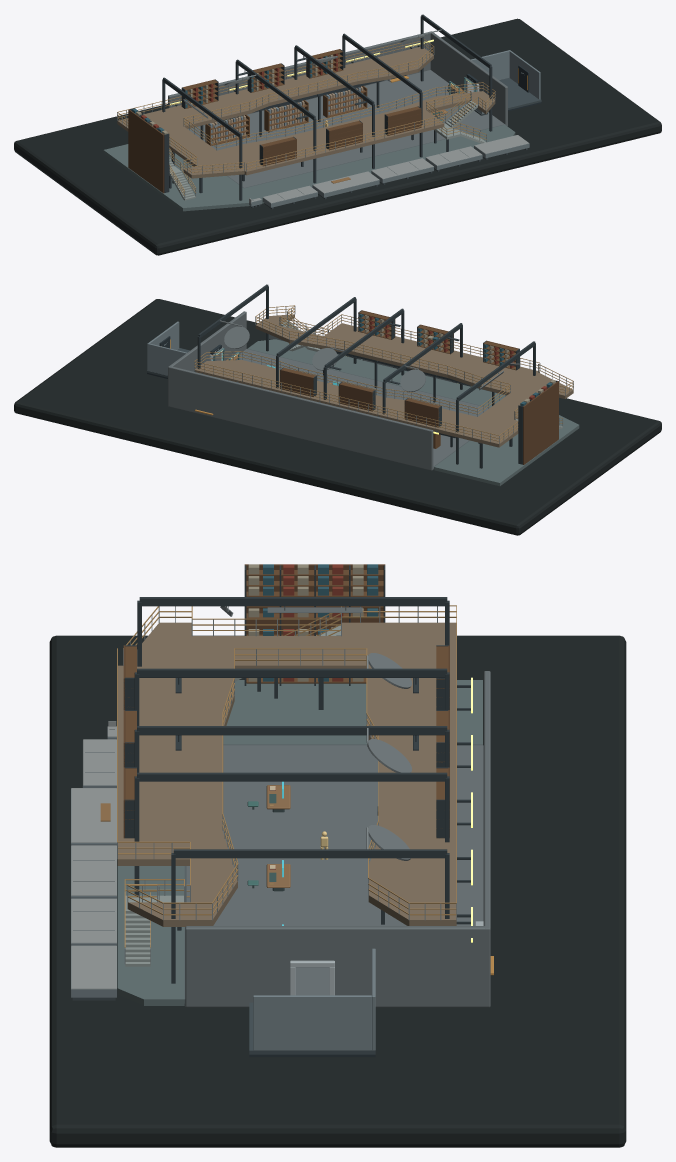
Rendered from flagship-p30-archive.glb.
3 views of the same model, one above another, from view 1: azimuth 30°, elevation 25°; view 2: azimuth 150°, elevation 25°; view 3: azimuth 270°, elevation 25° (orthographic). The views are drawn at different scales.
Visible parts, largest first — view 1: Archive bay structural deck, Archive occupied deck 36 x 18 metres, ARCH18A_upper_north_gallery, ARCH18A_upper_south_gallery, ARCH18A_lower_south_deck, ARCH18A_lower_west_deck, ARCH18A_upper_west_connector, Archive end bulkhead, ARCH18A_west_archive_wall_back, Archive inboard wall, ARCH16 / reserved end bulkhead, ARCH18A_south_upper_rack_2_back (+15 smaller); view 2: Archive bay structural deck, Archive inboard wall, ARCH18A_upper_south_gallery, Archive occupied deck 36 x 18 metres, ARCH18A_upper_north_gallery, ARCH18A_lower_west_deck, ARCH18A_lower_south_deck, ARCH18A_upper_west_connector, ARCH18A_west_archive_wall_back, Archive end bulkhead, ARCH16 / inboard side wall, ARCH18A_north_upper_rack_0_back (+11 smaller); view 3: Archive bay structural deck, Archive occupied deck 36 x 18 metres, Archive end bulkhead, ARCH18A_upper_south_gallery, ARCH18A_upper_north_gallery, ARCH18A_upper_west_connector, ARCH18A_lower_west_deck, ARCH16 / reserved end bulkhead, ARCH18A_lower_south_deck, ARCH18A_high_rib_01, ARCH18A_high_rib_03, ARCH18A_high_rib_02 (+12 smaller).
Boxes of the visible parts, box(x1,y1,x2,y2) form: Archive bay structural deck: box(14, 18, 661, 255); Archive occupied deck 36 x 18 metres: box(188, 70, 507, 187); ARCH18A_upper_north_gallery: box(164, 47, 433, 128); ARCH18A_upper_south_gallery: box(217, 91, 495, 175); ARCH18A_lower_south_deck: box(244, 125, 515, 203); ARCH18A_lower_west_deck: box(103, 144, 256, 211); ARCH18A_upper_west_connector: box(117, 110, 244, 178); Archive end bulkhead: box(430, 31, 507, 124); ARCH18A_west_archive_wall_back: box(128, 109, 164, 193); Archive inboard wall: box(168, 31, 431, 128); ARCH16 / reserved end bulkhead: box(509, 50, 540, 99); ARCH18A_south_upper_rack_2_back: box(387, 108, 421, 135); Archive bay structural deck: box(14, 299, 661, 535); Archive inboard wall: box(168, 366, 433, 468); ARCH18A_upper_south_gallery: box(255, 314, 539, 395); Archive occupied deck 36 x 18 metres: box(168, 349, 489, 470); ARCH18A_upper_north_gallery: box(194, 360, 476, 436); ARCH18A_lower_west_deck: box(434, 415, 579, 486); ARCH18A_lower_south_deck: box(248, 339, 506, 407); ARCH18A_upper_west_connector: box(455, 372, 573, 447); ARCH18A_west_archive_wall_back: box(523, 381, 558, 464); Archive end bulkhead: box(168, 311, 246, 404); ARCH16 / inboard side wall: box(147, 343, 186, 375); ARCH18A_north_upper_rack_0_back: box(404, 400, 438, 427); Archive bay structural deck: box(49, 635, 626, 1147); Archive occupied deck 36 x 18 metres: box(185, 745, 490, 1007); Archive end bulkhead: box(185, 926, 490, 1003); ARCH18A_upper_south_gallery: box(117, 665, 237, 926); ARCH18A_upper_north_gallery: box(367, 665, 456, 925); ARCH18A_upper_west_connector: box(137, 622, 456, 668); ARCH18A_lower_west_deck: box(223, 680, 482, 744); ARCH16 / reserved end bulkhead: box(253, 995, 371, 1050); ARCH18A_lower_south_deck: box(117, 866, 184, 1005); ARCH18A_high_rib_01: box(137, 668, 447, 677); ARCH18A_high_rib_03: box(137, 772, 447, 781); ARCH18A_high_rib_02: box(137, 726, 447, 735).
Size of the model in its own units: 69 by 10.55 by 34.
